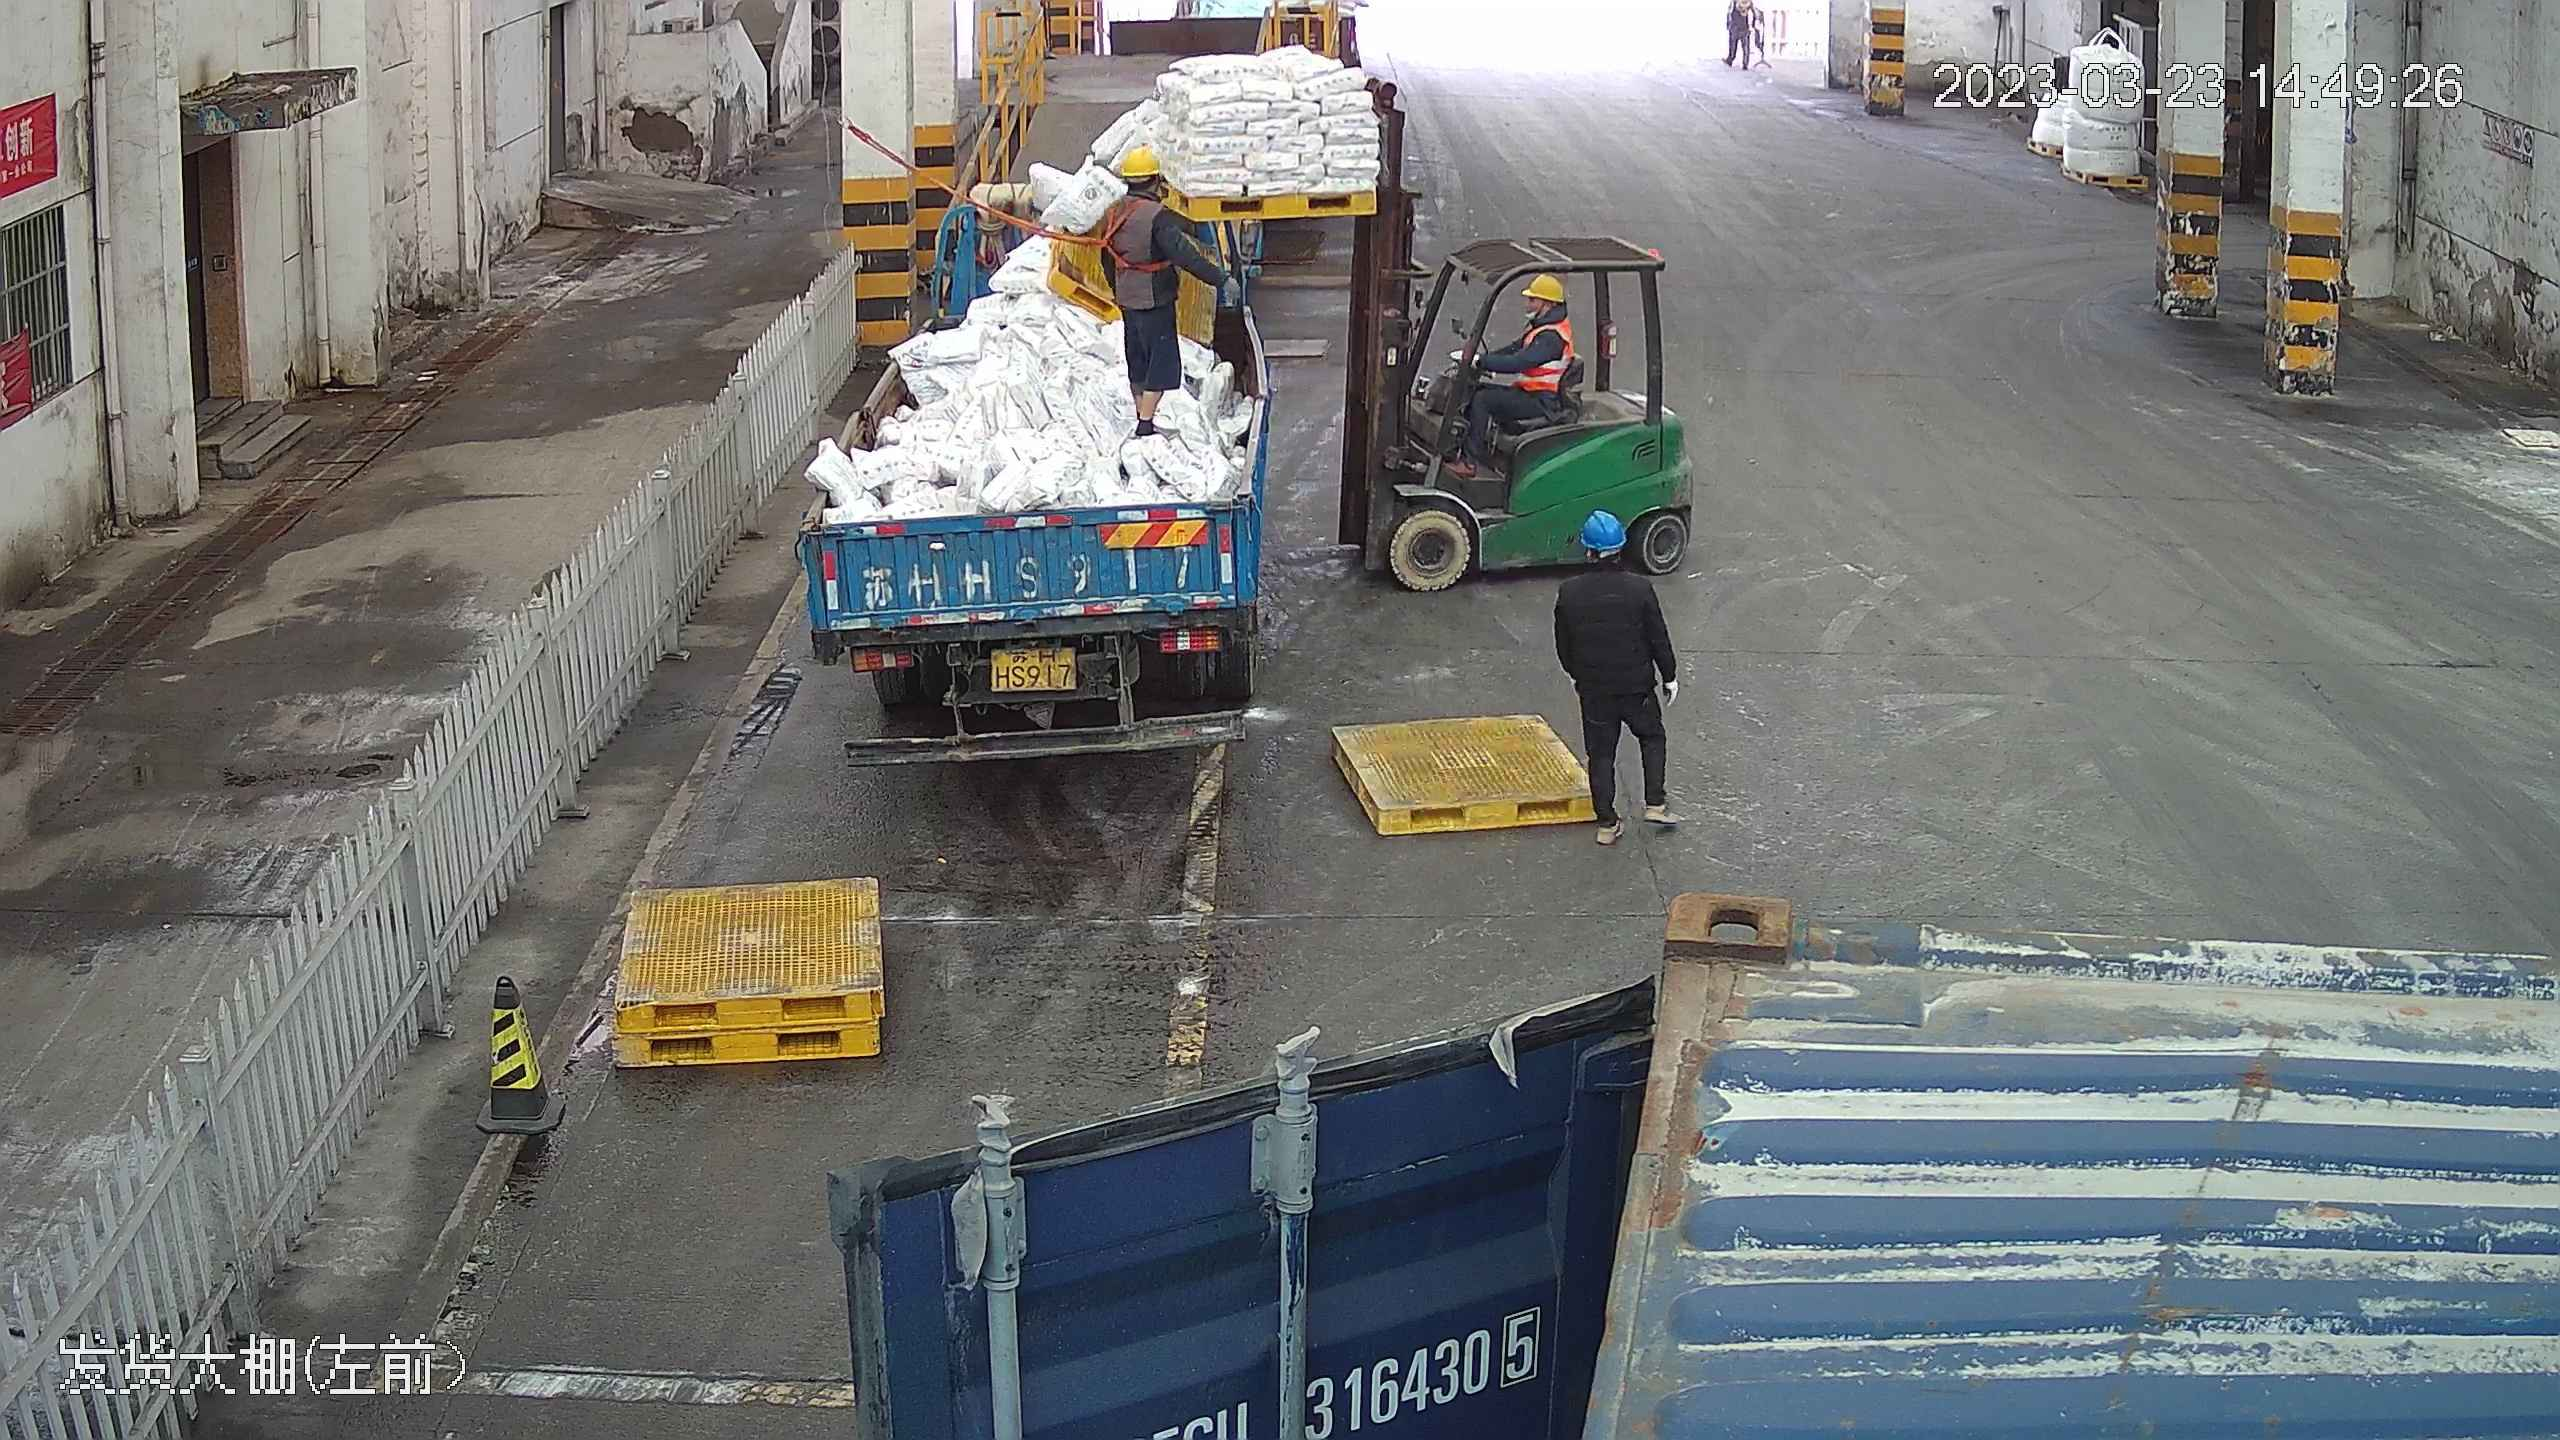belt: (1092, 191, 1176, 263)
head: (1087, 145, 1182, 234), (1564, 509, 1652, 605), (1514, 273, 1573, 352)
helmet: (1114, 145, 1165, 182), (1581, 511, 1626, 549), (1521, 273, 1566, 303)
people: (1055, 137, 1230, 446), (1555, 505, 1684, 838), (1448, 270, 1573, 475)
truck: (801, 12, 1288, 750)
